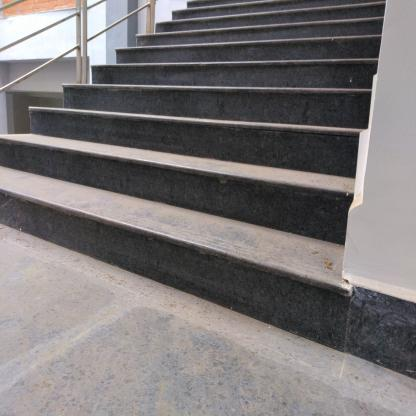stairs: (116, 49, 342, 319)
